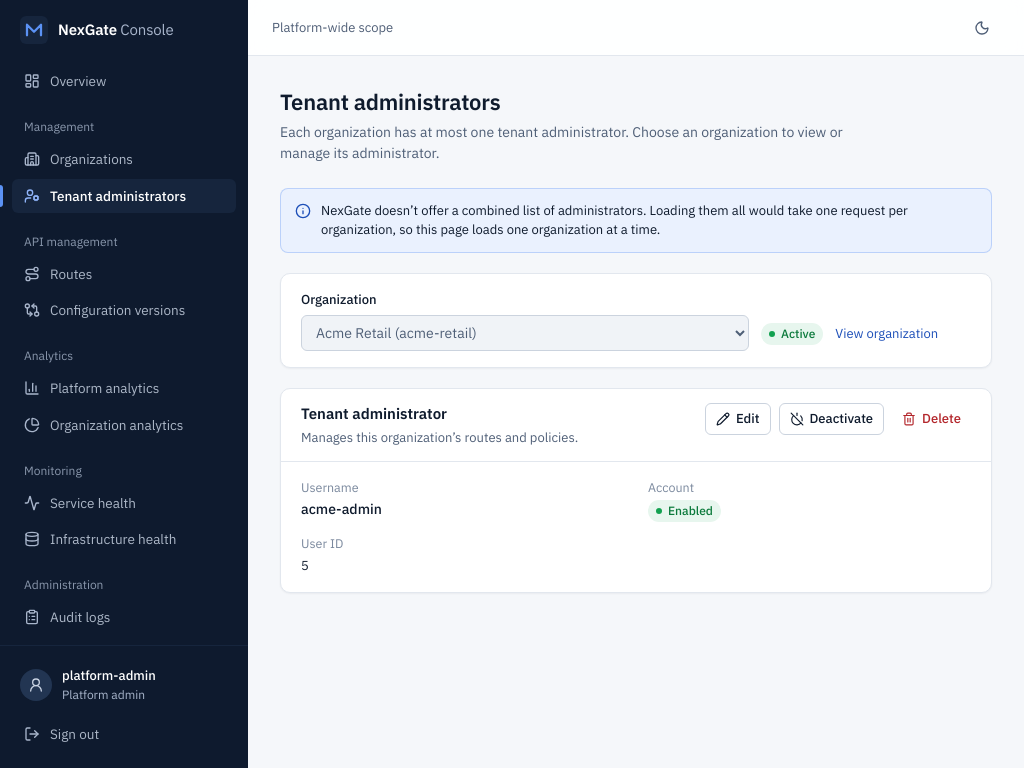
Test case: tenant administrators page › deactivation states the password requirement and needs explicit confirmation
Click the button "Deactivate" at x=831, y=419, box [778,403,884,435]
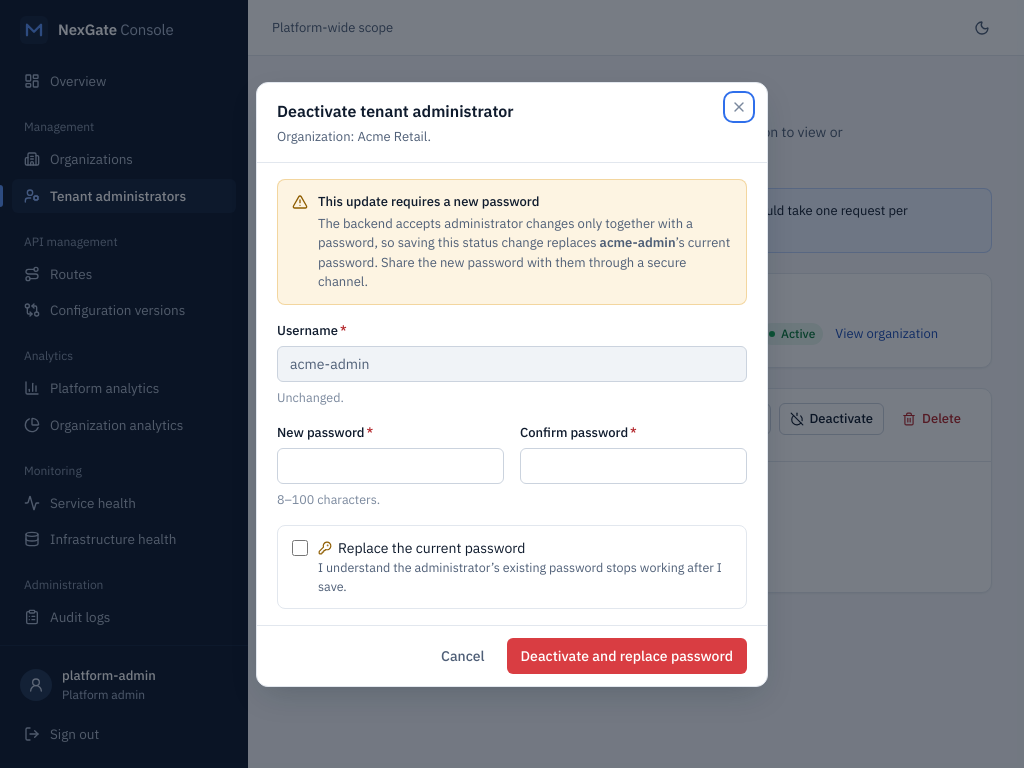
Check: the text "This update requires a new password" is shown, box [318,193,540,210]
Type "n3w-secret-pw" into the password field labelled "New password*" at x=390, y=466, box [277,448,504,484]
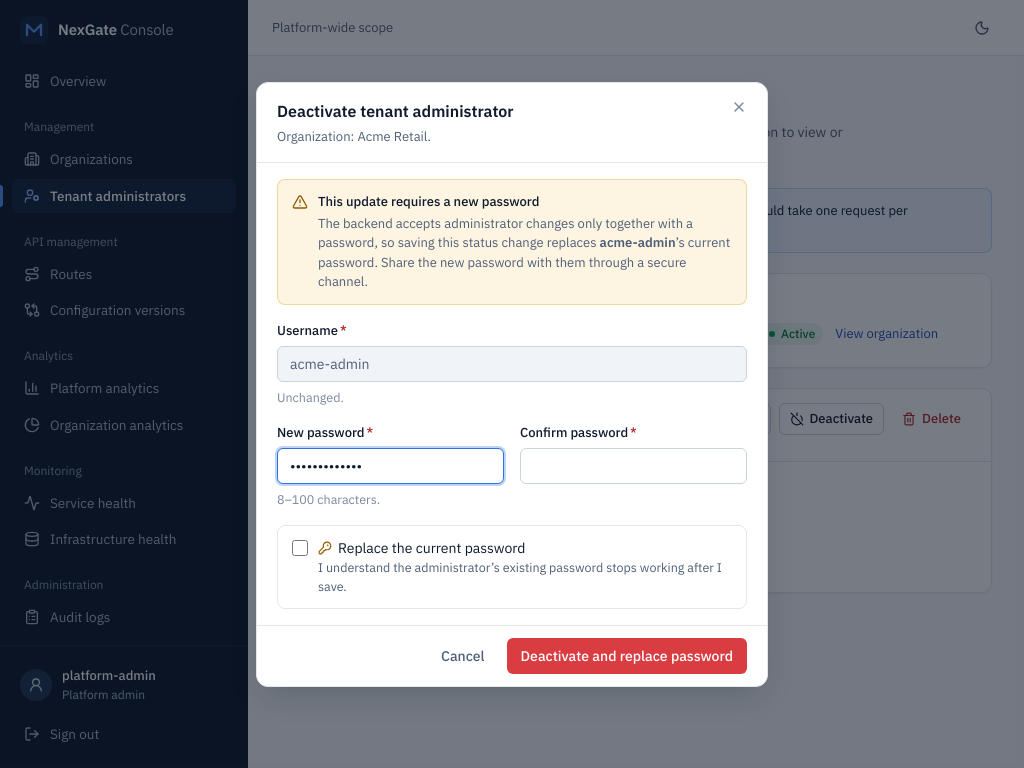
Type "n3w-secret-pw" into the password field labelled "Confirm password*" at x=634, y=466, box [520,448,747,484]
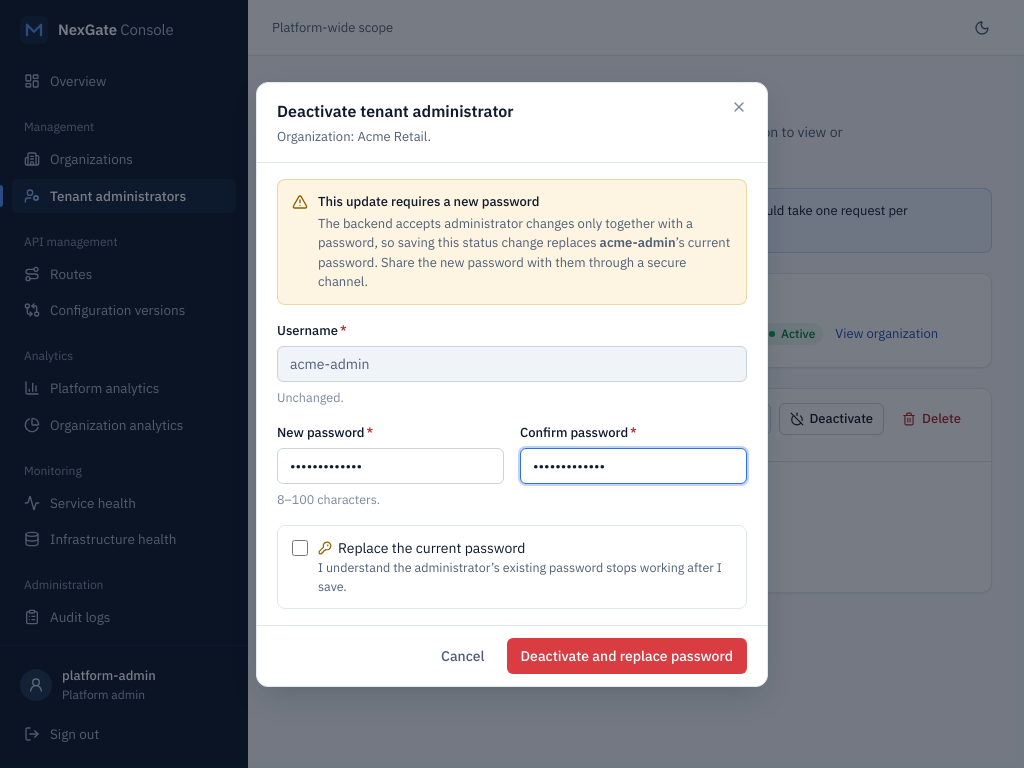
Click the button "Deactivate and replace password" at x=627, y=656, box [507,638,747,674]
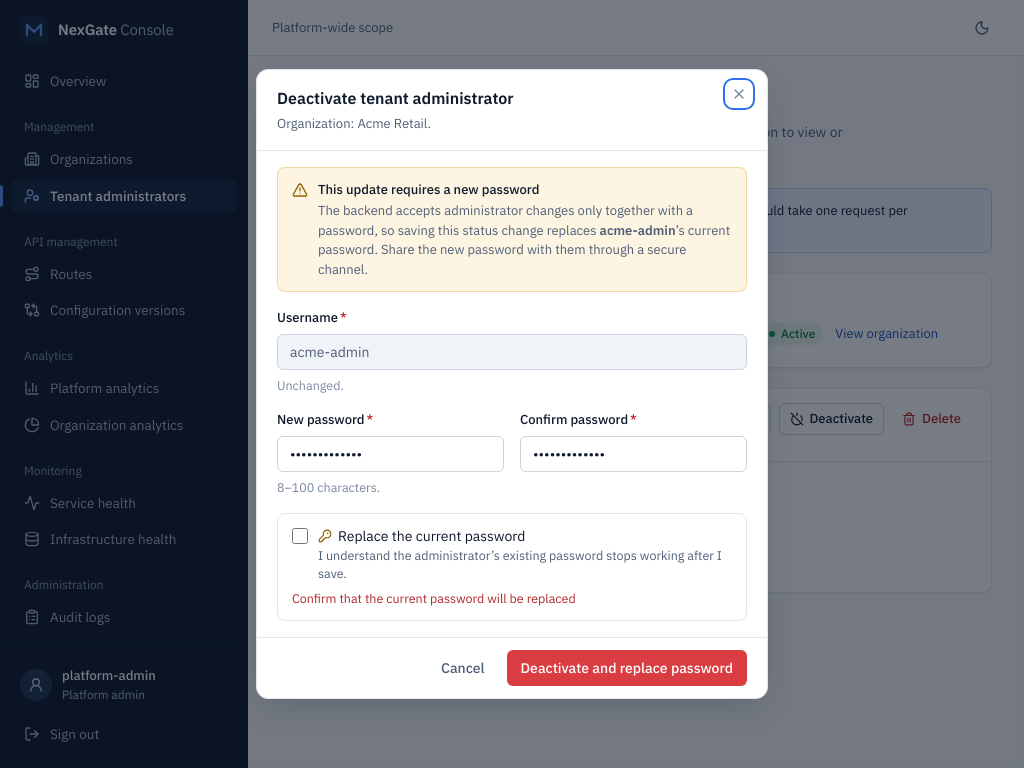
Check: the text "Confirm that the current password will be replaced" is shown, box [292,590,576,606]
Click the checkbox labelled "Replace the current password" at x=300, y=536, box [292,528,308,544]
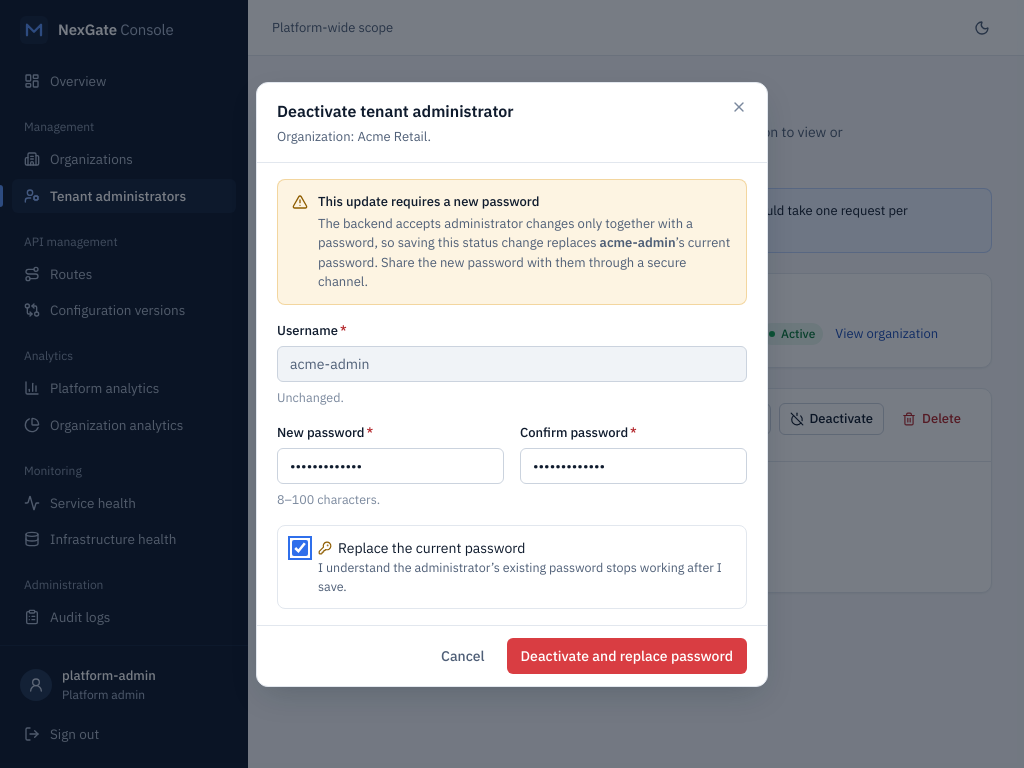
Click the button "Deactivate and replace password" at x=627, y=656, box [507,638,747,674]
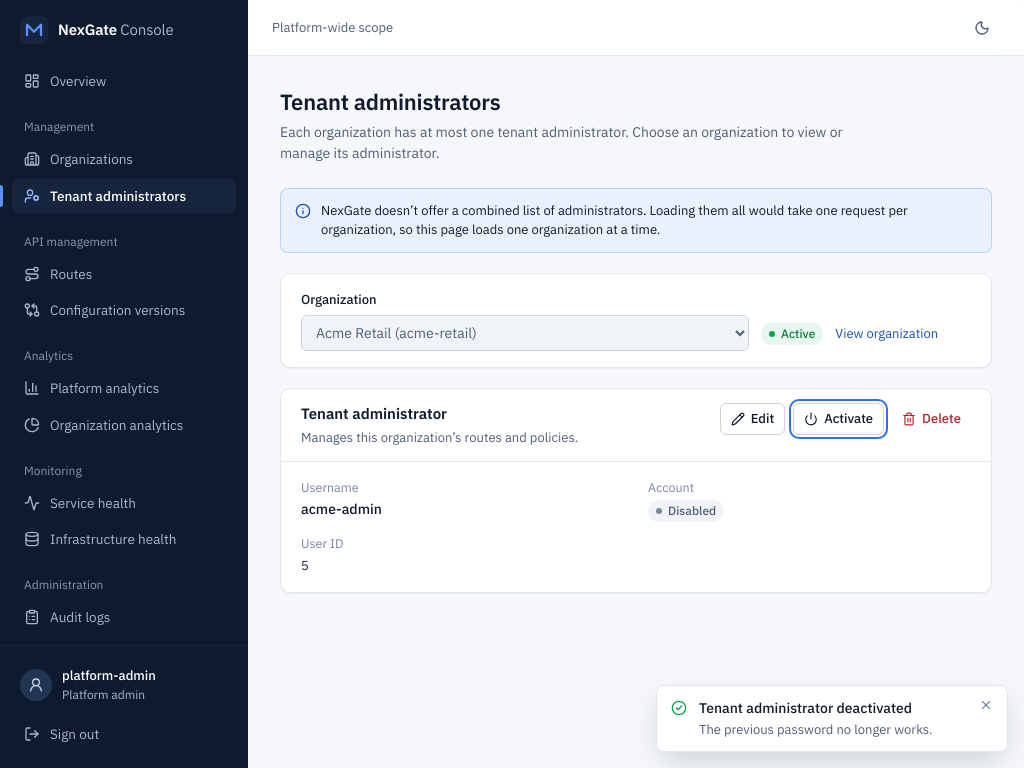
Check: the text "Tenant administrator deactivated" is shown, box [699,698,912,716]
Check: the text "The previous password no longer works." is shown, box [699,720,967,739]
